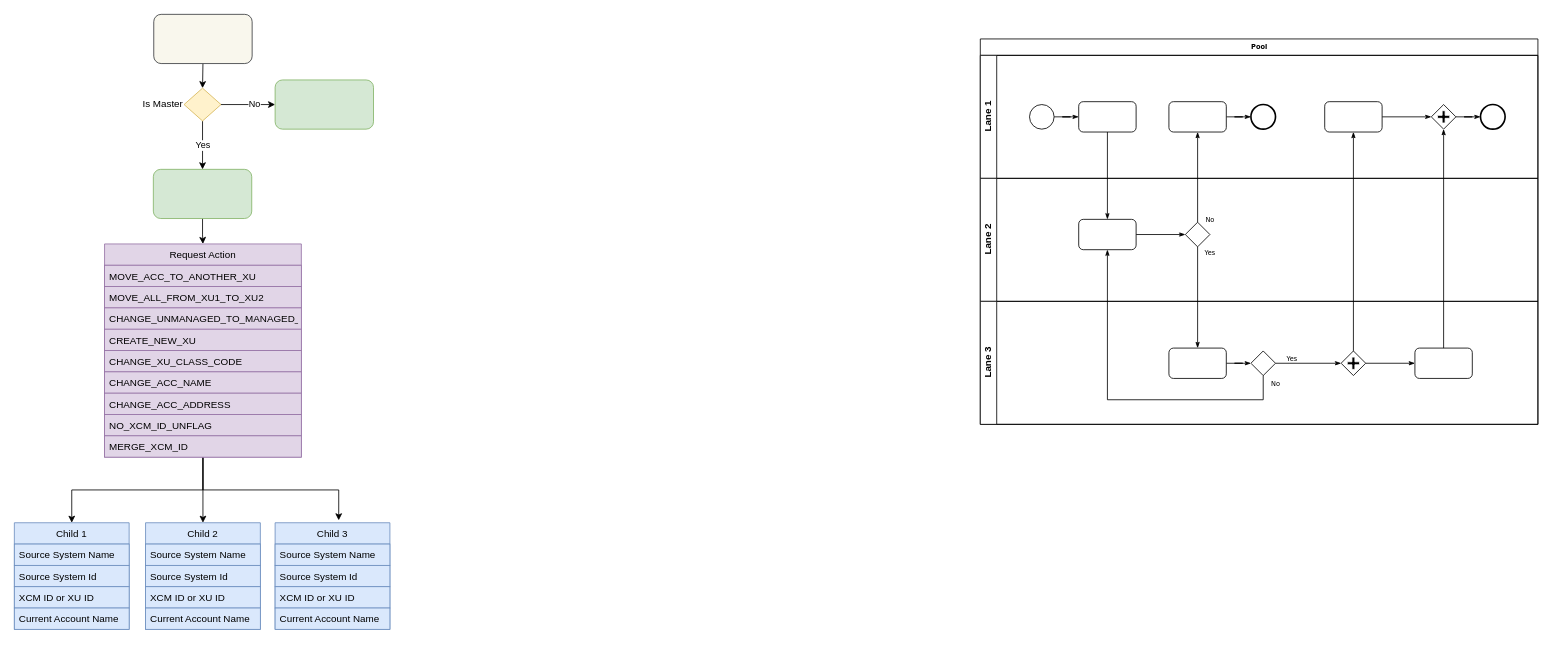
This 1552x646 diagram has some shape labels left out. Here are the shapes that lost their labels. From the top down, the centre of each, then its label:
At point (202, 39): "Request Form".
At point (324, 104): "Standard".
At point (202, 194): "Master/Child".
